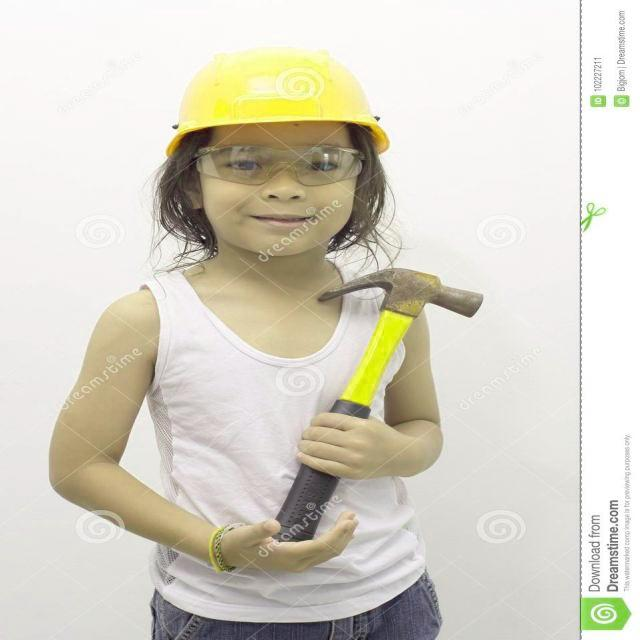hammer: (234, 262, 495, 580)
